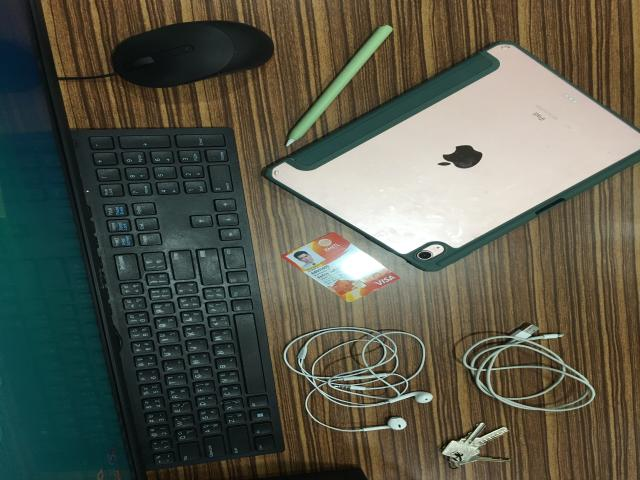Keys: (440, 423, 513, 467)
Mouse: (111, 21, 276, 90)
wire: (285, 327, 430, 436), (466, 325, 594, 415)
